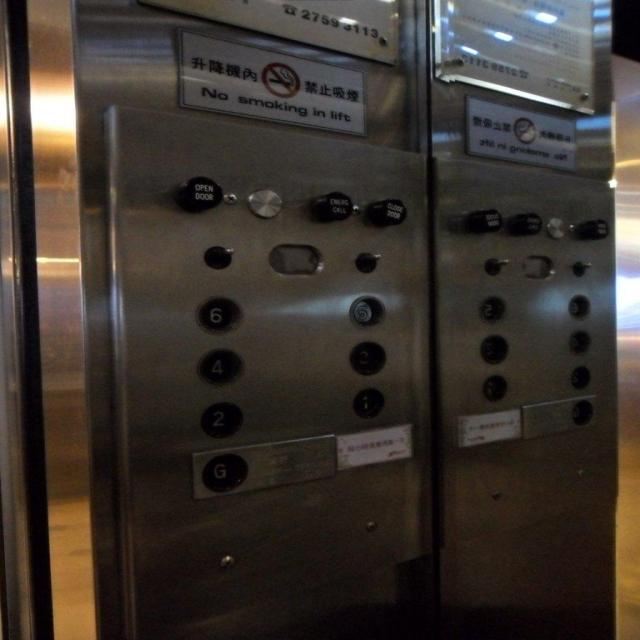1: (352, 386, 384, 417)
2: (199, 402, 244, 439)
3: (348, 341, 386, 375)
5: (195, 347, 245, 385), (349, 294, 384, 328)
6: (194, 294, 245, 337)
G: (198, 452, 250, 492)
empty: (244, 187, 286, 219)
switch: (203, 242, 235, 270), (353, 250, 382, 272), (482, 256, 508, 276), (570, 260, 592, 277)
text_CALL CANCEL: (311, 191, 352, 221)
text_blur: (466, 208, 502, 233), (507, 212, 541, 235), (579, 217, 608, 239)
text_close door: (366, 198, 406, 225)
text_open door: (174, 176, 222, 212)
unknown: (479, 334, 508, 364), (479, 295, 505, 323), (482, 374, 506, 400), (567, 294, 591, 318), (570, 400, 592, 426), (567, 331, 591, 354), (569, 365, 591, 389)
